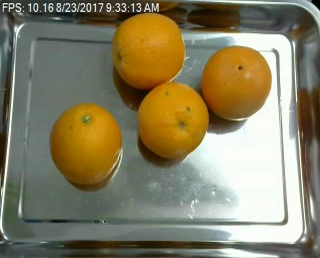Orange: (49, 102, 123, 185), (112, 12, 185, 90), (135, 81, 208, 158), (201, 45, 273, 120)
